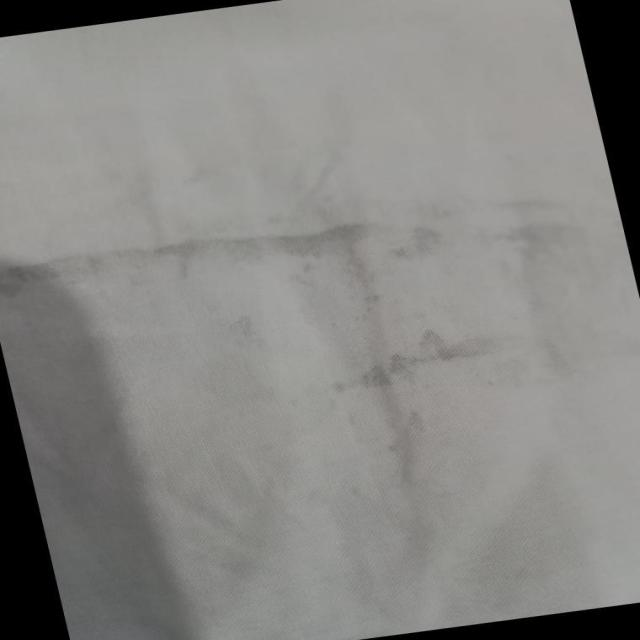stain: (0, 176, 584, 327), (302, 311, 538, 402), (374, 398, 445, 482)
